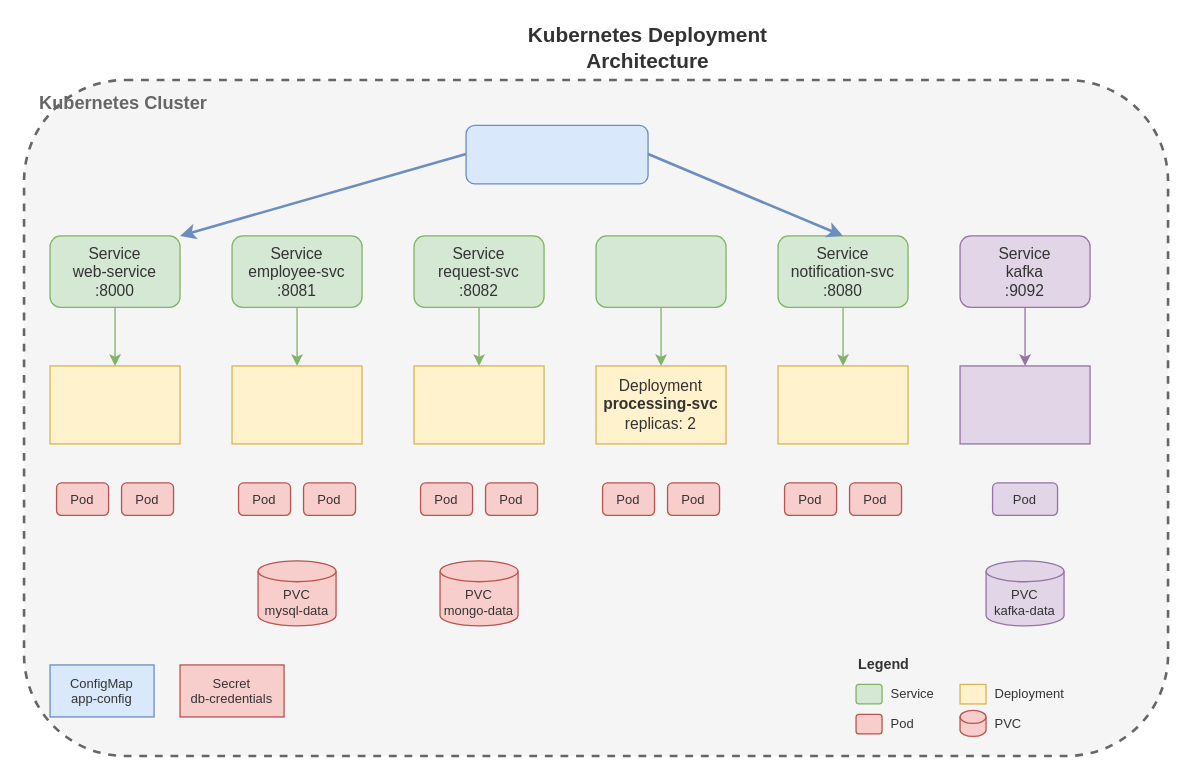
Some shapes in this 1191 by 779 pixel diagram are drawn without their labels. The centre of each missing label's shape, as x and y in pixels:
Deployment employee-svc replicas: 2: (296,404)
Deployment notification-svc replicas: 2: (842,404)
Deployment request-svc replicas: 2: (478,404)
Deployment web-service replicas: 2: (114,404)
Ingress Controller (nginx): (556,154)
Service processing-svc :8083: (660,271)
StatefulSet kafka replicas: 1: (1024,404)
